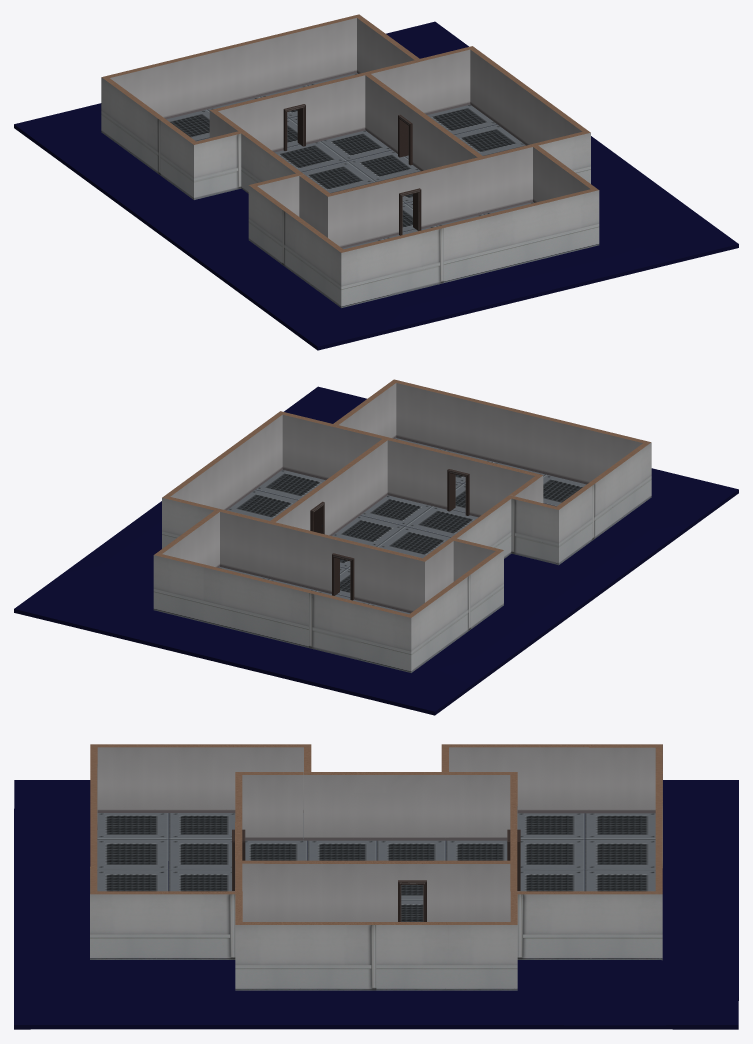
The model's file is testboat.fbx.
3 views of the same model, one above another, from view 1: azimuth 30°, elevation 25°; view 2: azimuth 150°, elevation 25°; view 3: azimuth 270°, elevation 25° (orthographic). The views are drawn at different scales.
Visible parts, largest first — view 1: polySurface1, floor, insidewall; view 2: polySurface1, floor, insidewall; view 3: floor, polySurface1, insidewall.
Part boxes in pixels (x1,y1,x2,y2): polySurface1: (101, 14, 599, 307); floor: (14, 21, 738, 350); insidewall: (209, 60, 532, 248); polySurface1: (153, 379, 651, 672); floor: (14, 386, 738, 715); insidewall: (220, 425, 543, 613); floor: (14, 780, 738, 1029); polySurface1: (90, 744, 662, 990); insidewall: (232, 772, 520, 921).
Bounding box in the file's own units: 80.03 × 11.03 × 100.
